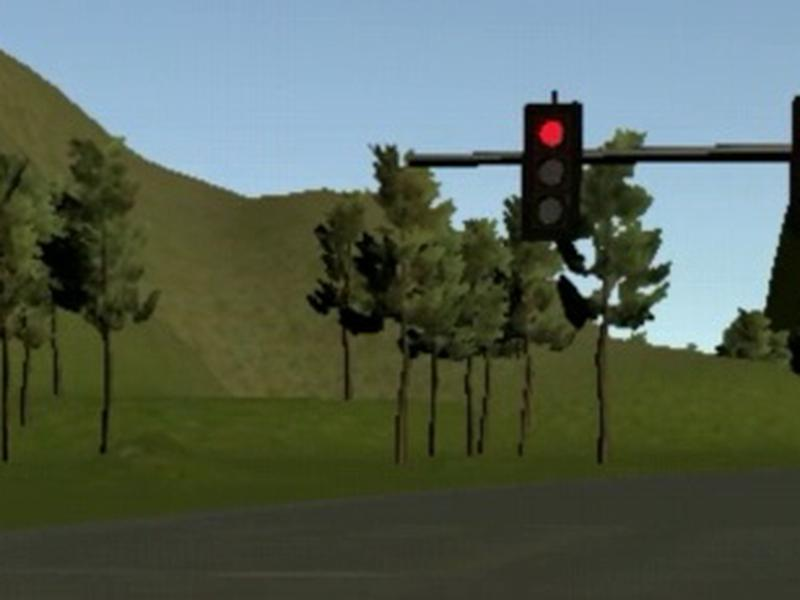Red: (522, 102, 584, 241)
